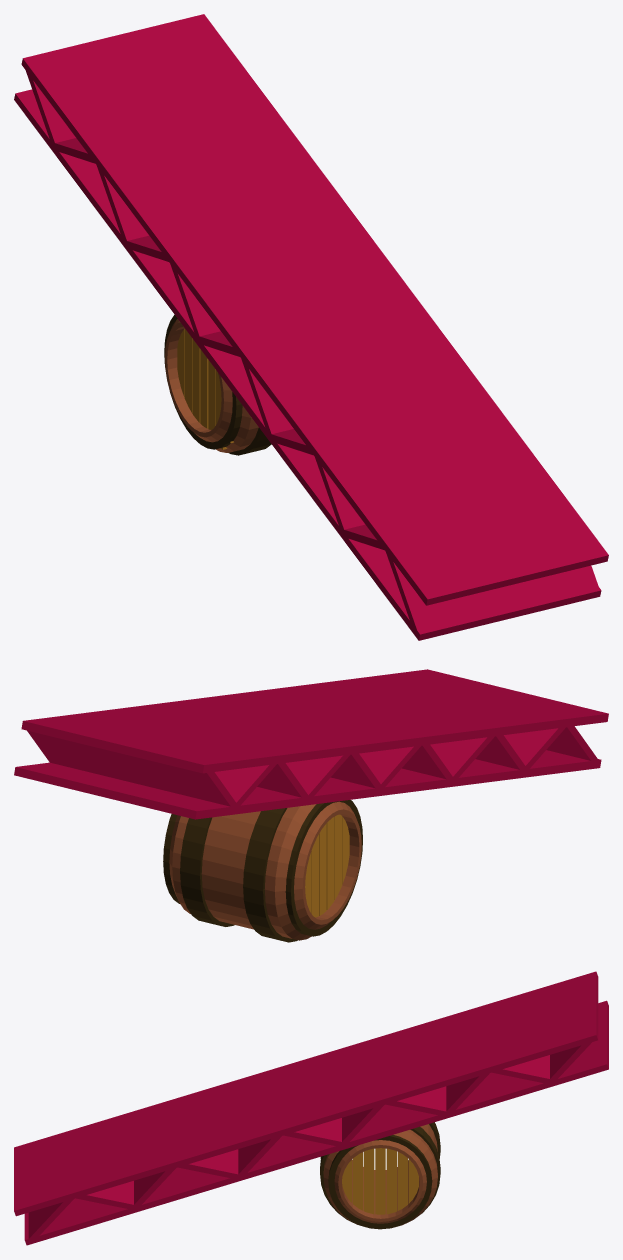
Rendered from ramp.glb.
3 renders of one model, top to bottom at view 1: azimuth 30°, elevation 25°; view 2: azimuth 150°, elevation 25°; view 3: azimuth 270°, elevation 25°, orthographic. The views are drawn at different scales.
Visible parts, largest first — view 1: Cube.012, Cylinder, Cube.001, Cylinder.004; view 2: Cube.012, Cylinder, Cylinder.004, Cube.001; view 3: Cube.012, Cube, Cylinder, Cylinder.004.
Boxes of the visible parts, bbox=[...] form: Cube.012: bbox=[14, 14, 608, 640]; Cylinder: bbox=[165, 319, 258, 452]; Cube.001: bbox=[177, 328, 233, 449]; Cylinder.004: bbox=[164, 314, 271, 455]; Cube.012: bbox=[14, 669, 608, 819]; Cylinder: bbox=[169, 801, 361, 940]; Cylinder.004: bbox=[163, 800, 362, 942]; Cube.001: bbox=[305, 814, 349, 917]; Cube.012: bbox=[14, 971, 608, 1245]; Cube: bbox=[342, 1148, 418, 1214]; Cylinder: bbox=[323, 1124, 437, 1228]; Cylinder.004: bbox=[320, 1122, 440, 1229].
Size of the model in its own units: 2.63 by 4.07 by 10.4.
